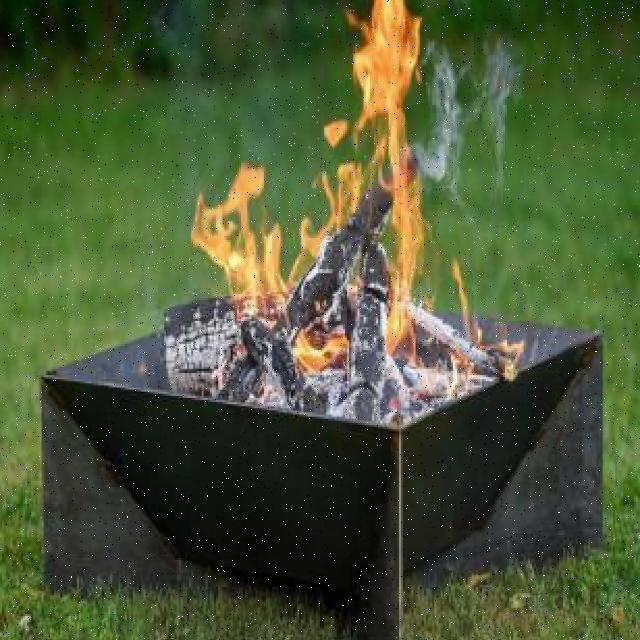fire: (189, 0, 428, 383)
smoke: (426, 18, 526, 215)
